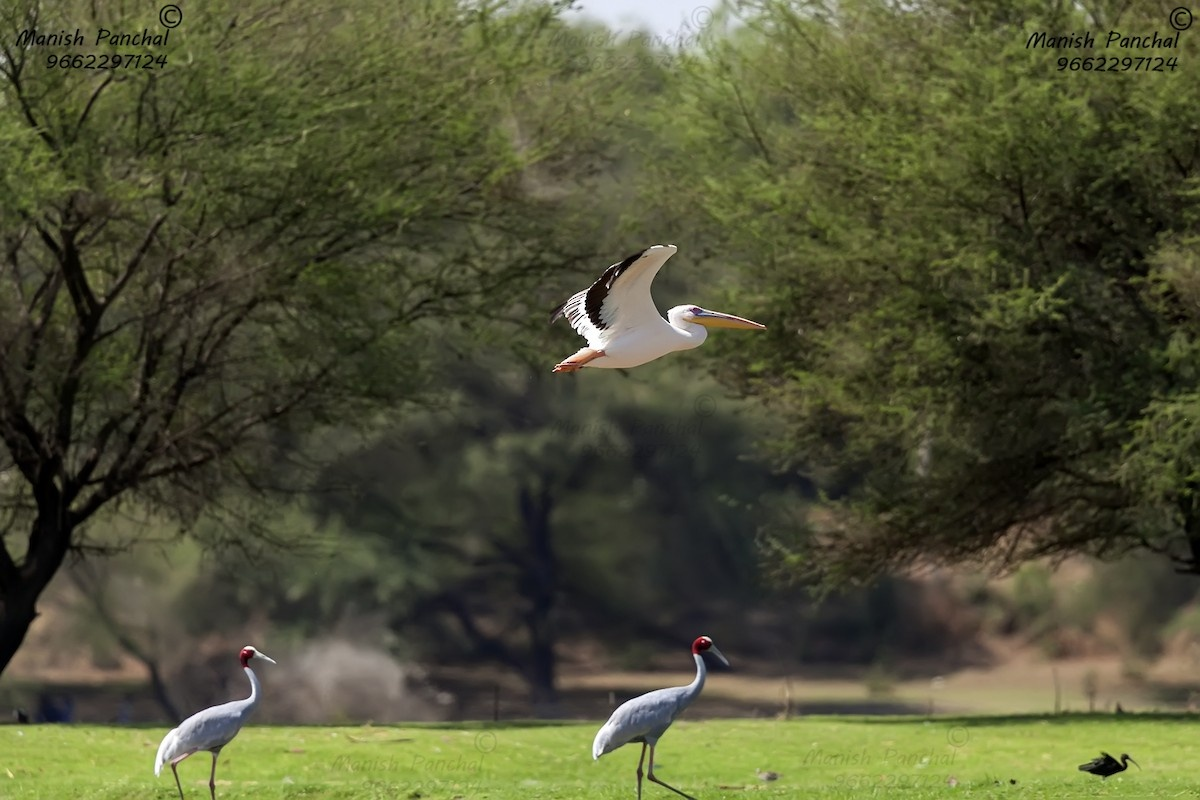crane: (588, 633, 737, 800), (145, 643, 280, 800)
